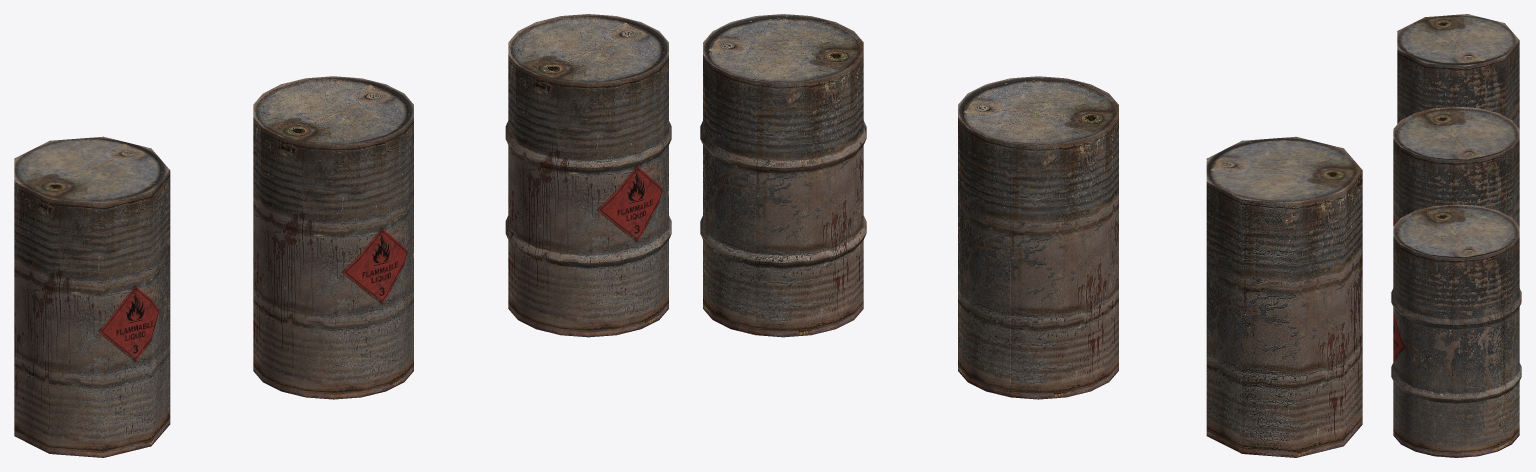
The model's file is Barrel_v1.FBX.
The picture shows the model from 3 angles, left to right: view 1: azimuth 30°, elevation 25°; view 2: azimuth 150°, elevation 25°; view 3: azimuth 270°, elevation 25°; orthographic projection. The views are drawn at different scales.
Visible parts, largest first — view 1: Barrel_v1_LD3, Barrel_v1_LD2, Barrel_v1_LD1; view 2: Barrel_v1_LD3, Barrel_v1_LD2, Barrel_v1_LD1; view 3: Barrel_v1_LD3, Barrel_v1_LD2, Barrel_v1_LD1.
Boxes of the visible parts, <box> form: Barrel_v1_LD3: <box>505,14,671,337</box>; Barrel_v1_LD2: <box>253,76,413,399</box>; Barrel_v1_LD1: <box>14,136,170,457</box>; Barrel_v1_LD3: <box>700,14,866,337</box>; Barrel_v1_LD2: <box>958,76,1118,399</box>; Barrel_v1_LD1: <box>1206,136,1362,457</box>; Barrel_v1_LD3: <box>1391,204,1521,457</box>; Barrel_v1_LD2: <box>1393,106,1519,226</box>; Barrel_v1_LD1: <box>1397,14,1519,128</box>.
Bounding box in the file's own units: 2.72 × 1.03 × 0.6103.
